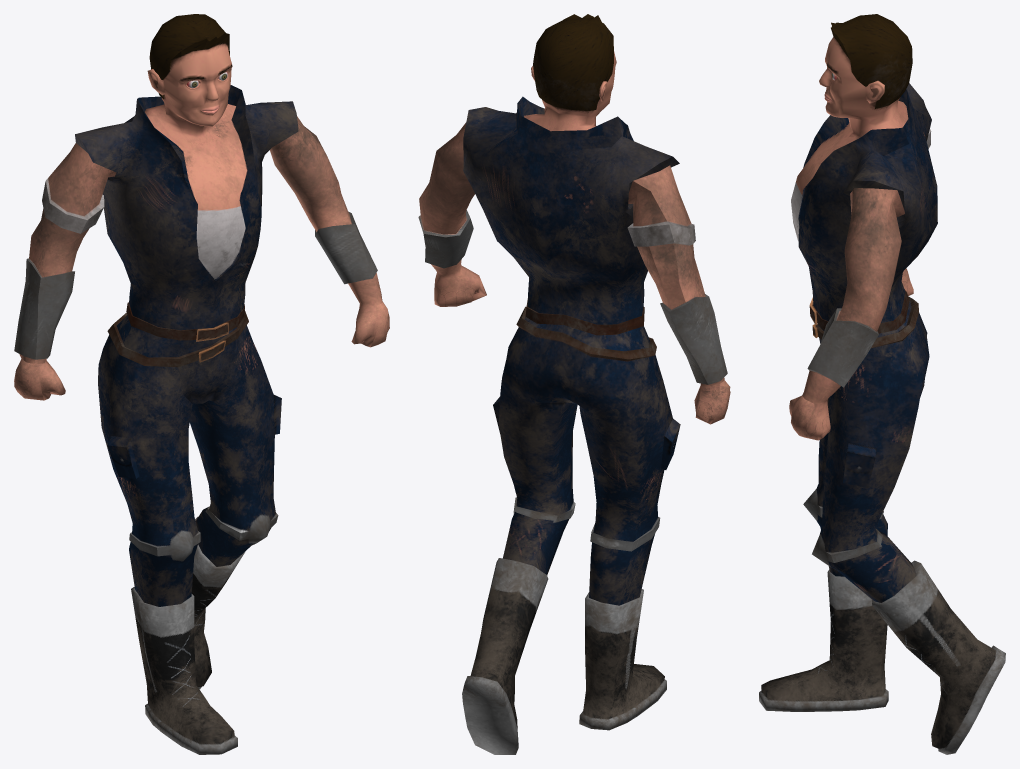
The model's file is Anim_andar_jugador.0028.obj.
3 renders of one model, left to right at view 1: azimuth 30°, elevation 25°; view 2: azimuth 150°, elevation 25°; view 3: azimuth 270°, elevation 25°, orthographic.
Visible parts, largest first — view 1: Anim_andar_jugador; view 2: Anim_andar_jugador; view 3: Anim_andar_jugador.
Part boxes in pixels (x1,y1,x2,y2): Anim_andar_jugador: (14,14,389,754); Anim_andar_jugador: (418,14,730,754); Anim_andar_jugador: (759,14,1005,754).
Bounding box in the file's own units: 4.81 × 9.87 × 3.09.
